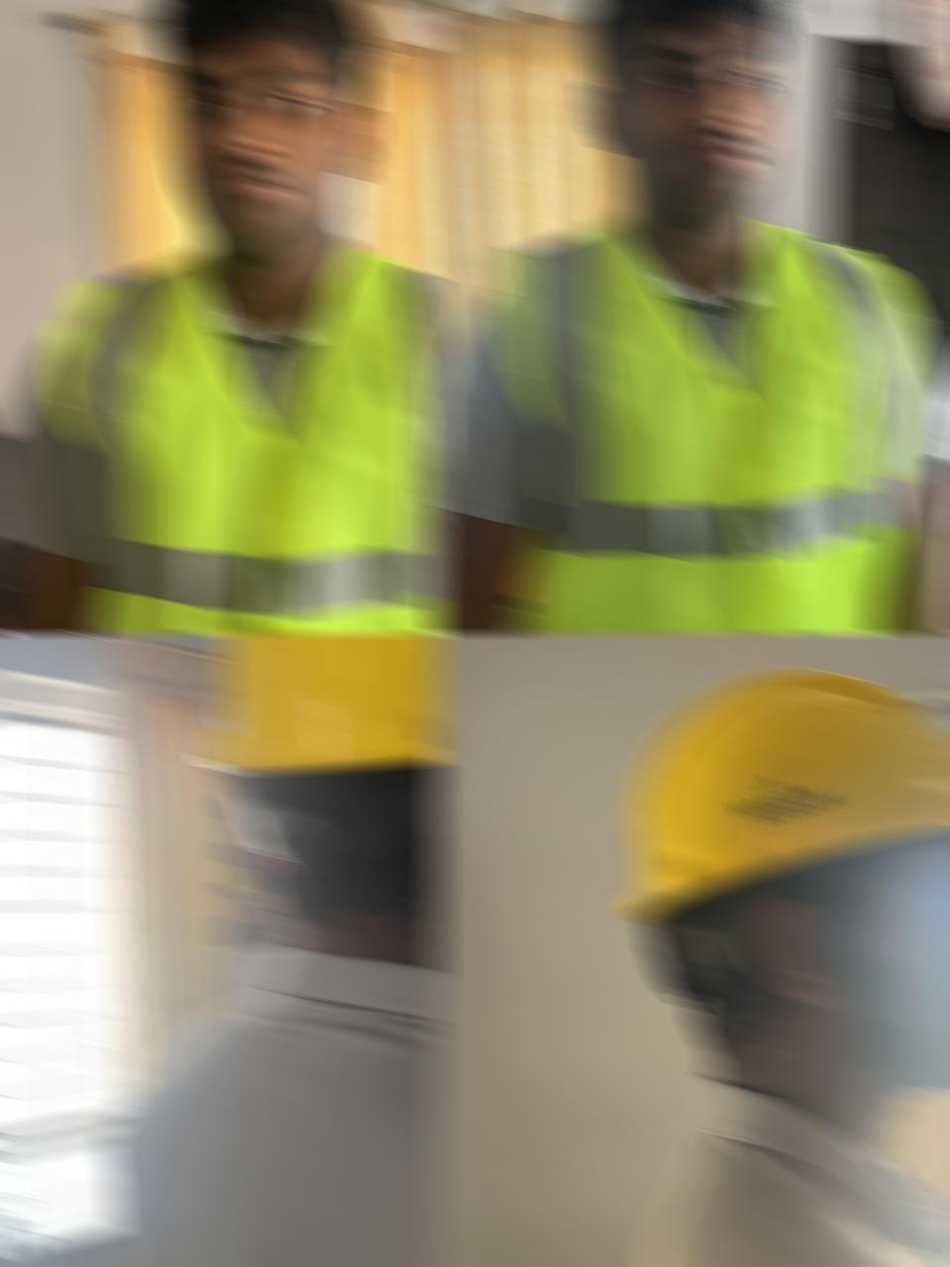Helmet: (624, 668, 950, 1097), (199, 632, 443, 775)
No_Helmet: (579, 0, 791, 232)
No_Vest: (101, 943, 443, 1267), (611, 1079, 950, 1267)
Person: (429, 0, 950, 634), (0, 0, 443, 634), (98, 632, 443, 1267), (611, 668, 950, 1267)
Vest: (492, 210, 920, 635), (47, 240, 443, 635)
